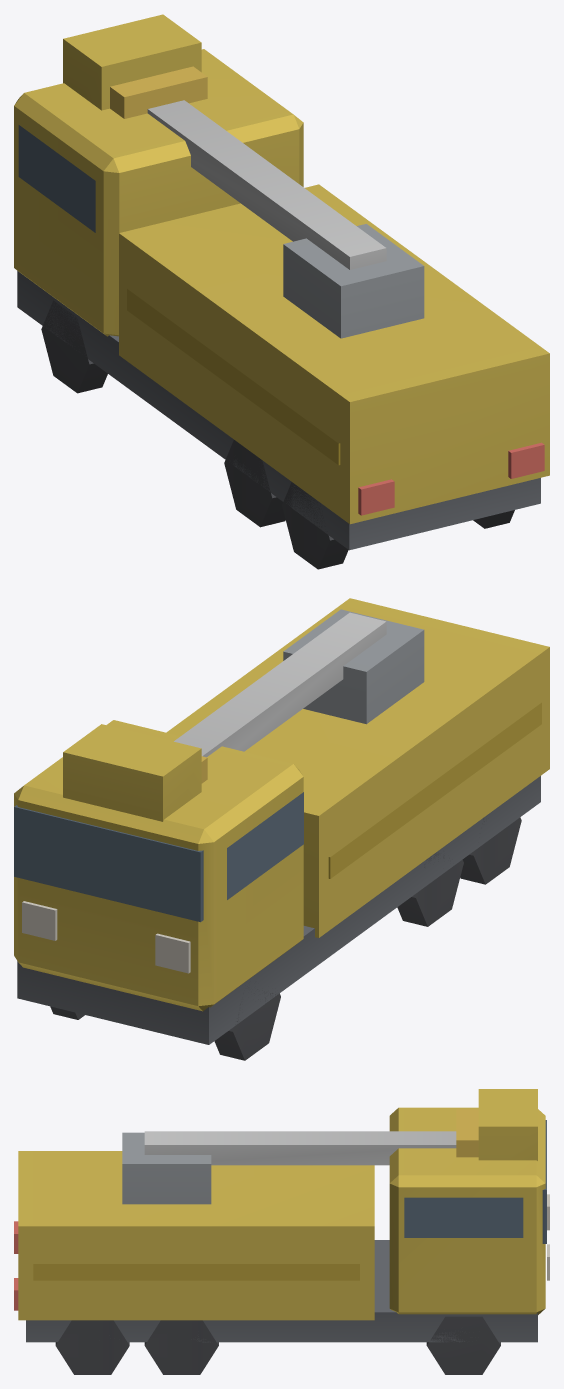
File: truck_crew.glb
3 views of the same model, one above another, from view 1: azimuth 30°, elevation 25°; view 2: azimuth 150°, elevation 25°; view 3: azimuth 270°, elevation 25° (orthographic). The views are drawn at different scales.
Visible parts, largest first — view 1: truck_crew; view 2: truck_crew; view 3: truck_crew.
Boxes of the visible parts, x1=… form: truck_crew: x1=14, y1=14, x2=549, y2=569; truck_crew: x1=14, y1=598, x2=549, y2=1060; truck_crew: x1=14, y1=1089, x2=549, y2=1374.
Bounding box in the file's own units: 2.5 × 3.43 × 7.22.
